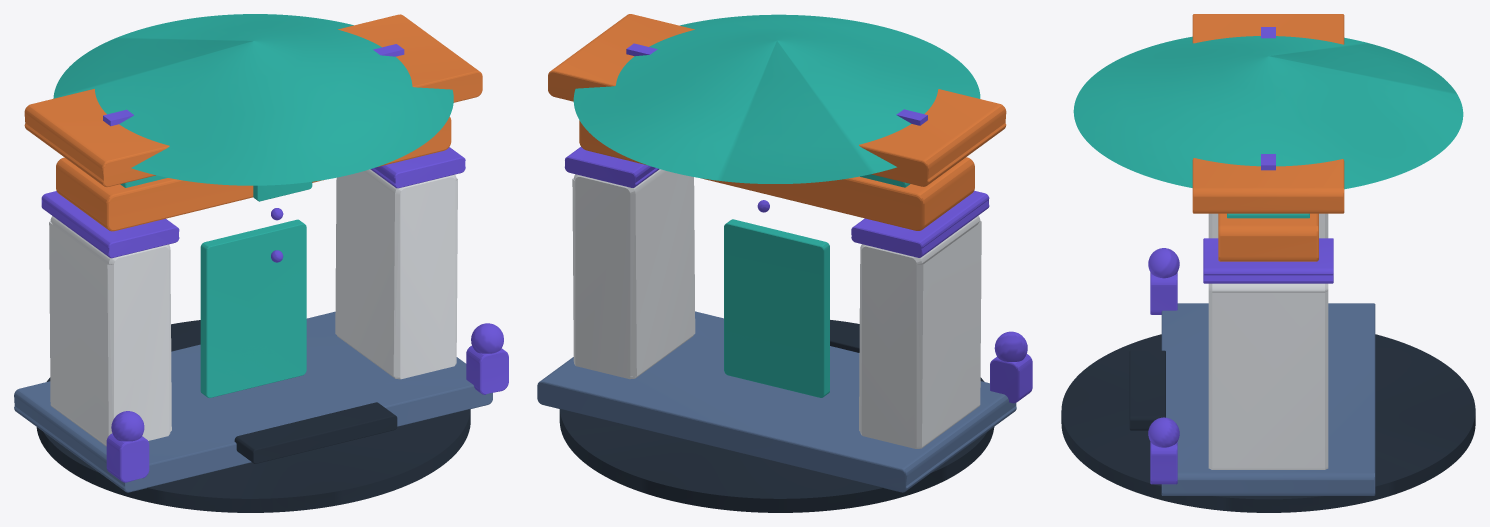
File: 0813_中国建筑图鉴_清晏舫.glb
3 renders of one model, left to right at view 1: azimuth 30°, elevation 25°; view 2: azimuth 150°, elevation 25°; view 3: azimuth 270°, elevation 25°, orthographic. The views are drawn at different scales.
Parts seen in each view (by area): view 1: card_0813; view 2: card_0813; view 3: card_0813.
Boxes of the visible parts, left/top/right/bottom form: card_0813: left=14, top=14, right=508, bottom=512; card_0813: left=537, top=14, right=1032, bottom=512; card_0813: left=1061, top=14, right=1475, bottom=512.
Bounding box in the file's own units: 1.07 × 1 × 1.02.
